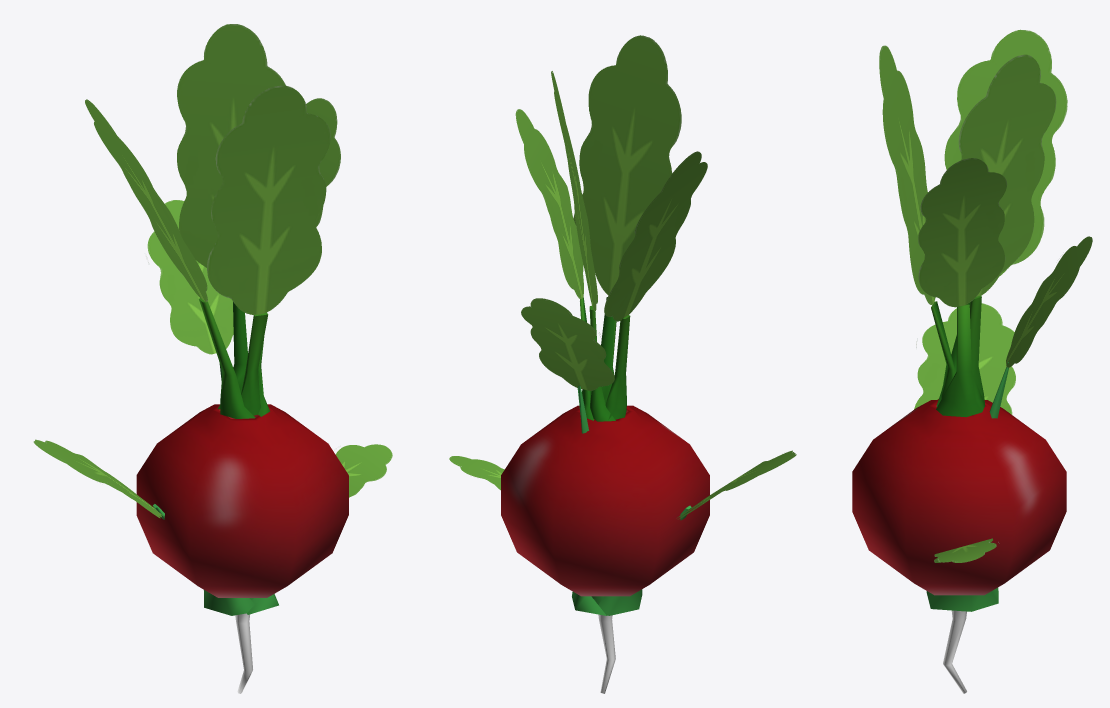
File: Radish_all_forn.FBX
3 renders of one model, left to right at view 1: azimuth 30°, elevation 25°; view 2: azimuth 150°, elevation 25°; view 3: azimuth 270°, elevation 25°, orthographic. The views are drawn at different scales.
Visible parts, largest first — view 1: Night_Radish_leaf, Night_Radish, Child_Radish_leaf, Child_Radish; view 2: Night_Radish, Night_Radish_leaf, Child_Radish_leaf, Child_Radish; view 3: Night_Radish, Night_Radish_leaf, Child_Radish_leaf, Child_Radish.
Part boxes in pixels (box(x1,y1,x2,y2)): Night_Radish_leaf: box(85, 24, 340, 314); Night_Radish: box(136, 298, 348, 693); Child_Radish_leaf: box(33, 200, 392, 518); Child_Radish: box(153, 363, 278, 615); Night_Radish: box(501, 296, 709, 693); Night_Radish_leaf: box(515, 35, 707, 321); Child_Radish_leaf: box(449, 298, 796, 519); Child_Radish: box(572, 386, 691, 615); Night_Radish: box(852, 295, 1066, 693); Night_Radish_leaf: box(879, 29, 1067, 307); Child_Radish_leaf: box(914, 236, 1092, 562); Child_Radish: box(926, 362, 1008, 611).
Size of the model in its own units: 1.7 by 2.94 by 0.9833.
